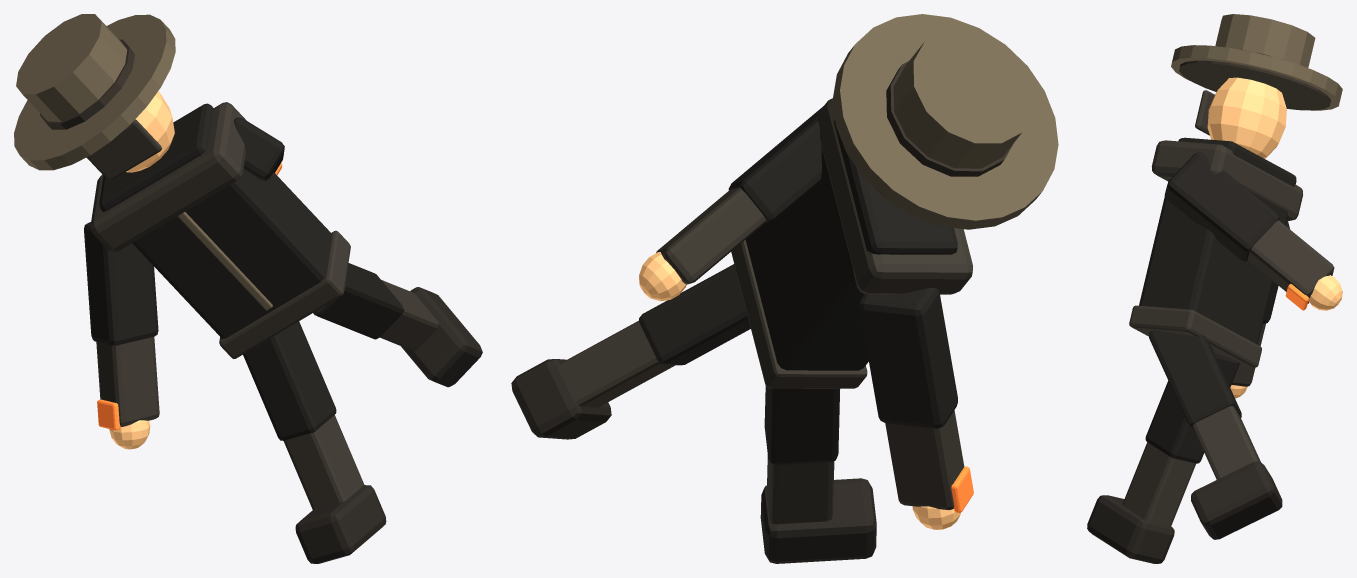
File: journey-faller.glb
3 views of the same model, side by side, from view 1: azimuth 30°, elevation 25°; view 2: azimuth 150°, elevation 25°; view 3: azimuth 270°, elevation 25° (orthographic). The views are drawn at different scales.
Visible parts, largest first — view 1: Traveler coat, Wide hat brim, Coat shoulder cape, Hat crown, Left trouser, Left sleeve, Left lower leg, Left forearm, Left boot, Coat hem, Right boot, Right trouser (+8 smaller); view 2: Traveler coat, Wide hat brim, Hat crown, Left sleeve, Coat shoulder cape, Right trouser, Left boot, Left trouser, Left forearm, Right lower leg, Right sleeve, Right forearm (+7 smaller); view 3: Traveler coat, Right sleeve, Right trouser, Traveler head, Right boot, Coat shoulder cape, Left lower leg, Right forearm, Left boot, Coat hem, Hat crown, Hat underside (+7 smaller).
Boxes of the visible parts, x1=… form: Traveler coat: x1=99, y1=103, x2=332, y2=338; Wide hat brim: x1=14, y1=14, x2=175, y2=170; Coat shoulder cape: x1=90, y1=102, x2=246, y2=252; Hat crown: x1=16, y1=14, x2=127, y2=121; Left trouser: x1=243, y1=321, x2=336, y2=440; Left sleeve: x1=84, y1=222, x2=158, y2=345; Left lower leg: x1=283, y1=415, x2=364, y2=510; Left forearm: x1=96, y1=337, x2=159, y2=426; Left boot: x1=295, y1=485, x2=386, y2=563; Coat hem: x1=219, y1=230, x2=350, y2=358; Right boot: x1=401, y1=287, x2=482, y2=387; Right trouser: x1=313, y1=263, x2=404, y2=339; Traveler coat: x1=745, y1=119, x2=957, y2=370; Wide hat brim: x1=832, y1=14, x2=1058, y2=229; Hat crown: x1=893, y1=30, x2=1033, y2=168; Left sleeve: x1=859, y1=287, x2=957, y2=428; Coat shoulder cape: x1=816, y1=98, x2=972, y2=294; Right trouser: x1=639, y1=264, x2=750, y2=365; Left boot: x1=760, y1=478, x2=876, y2=563; Left trouser: x1=764, y1=386, x2=839, y2=465; Left forearm: x1=885, y1=410, x2=964, y2=510; Right lower leg: x1=558, y1=320, x2=675, y2=407; Right sleeve: x1=728, y1=106, x2=823, y2=222; Right forearm: x1=656, y1=187, x2=766, y2=284; Traveler coat: x1=1139, y1=137, x2=1296, y2=344; Right sleeve: x1=1164, y1=151, x2=1279, y2=261; Right trouser: x1=1149, y1=330, x2=1241, y2=436; Traveler head: x1=1207, y1=77, x2=1286, y2=158; Right boot: x1=1191, y1=461, x2=1282, y2=539; Coat shoulder cape: x1=1151, y1=140, x2=1302, y2=220; Left lower leg: x1=1122, y1=442, x2=1195, y2=527; Right forearm: x1=1247, y1=220, x2=1334, y2=303; Left boot: x1=1087, y1=495, x2=1174, y2=563; Coat hem: x1=1129, y1=305, x2=1261, y2=367; Hat crown: x1=1215, y1=14, x2=1315, y2=67; Hat underside: x1=1179, y1=60, x2=1330, y2=110.
Bounding box in the file's own units: 2.5 × 2.89 × 1.44.
